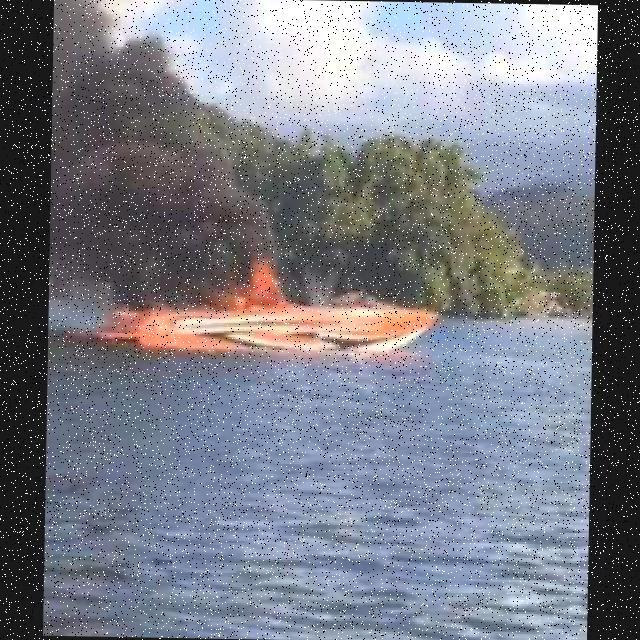Fire: (230, 257, 289, 316)
Smoke: (50, 7, 272, 301)
